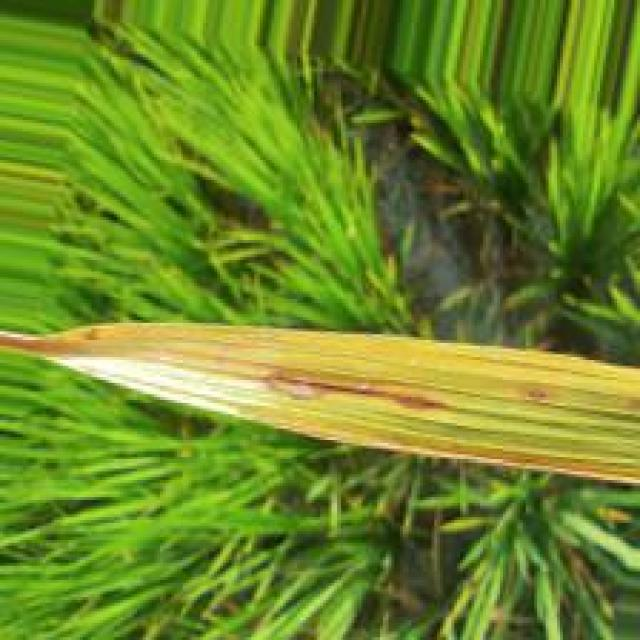Leaf_Blast: (374, 427, 640, 485), (259, 366, 460, 416), (515, 385, 564, 410)
